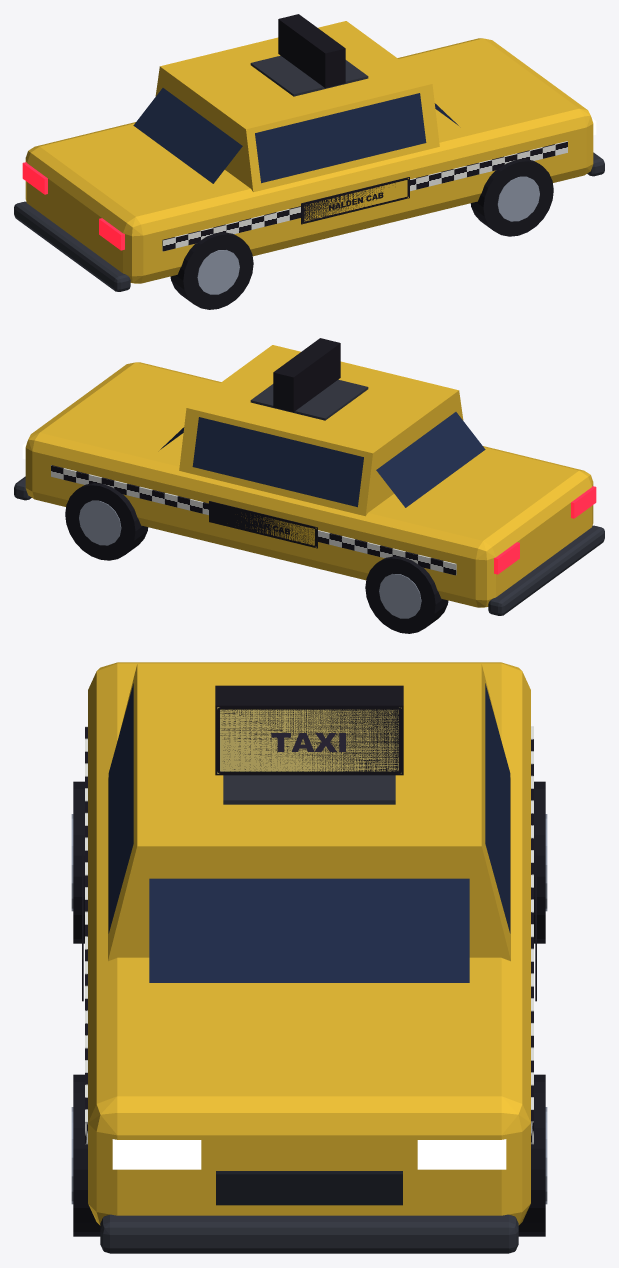
File: taxi.glb
3 renders of one model, top to bottom at view 1: azimuth 30°, elevation 25°; view 2: azimuth 150°, elevation 25°; view 3: azimuth 270°, elevation 25°, orthographic. The views are drawn at different scales.
Visible parts, largest first — view 1: taxi; view 2: taxi; view 3: taxi.
Part boxes in pixels (bbox=[...]): taxi: bbox=[14, 14, 604, 309]; taxi: bbox=[14, 338, 604, 633]; taxi: bbox=[71, 662, 547, 1253].
Bounding box in the file's own units: 4.6 × 1.75 × 1.93.
14 materials, 4 textured.
